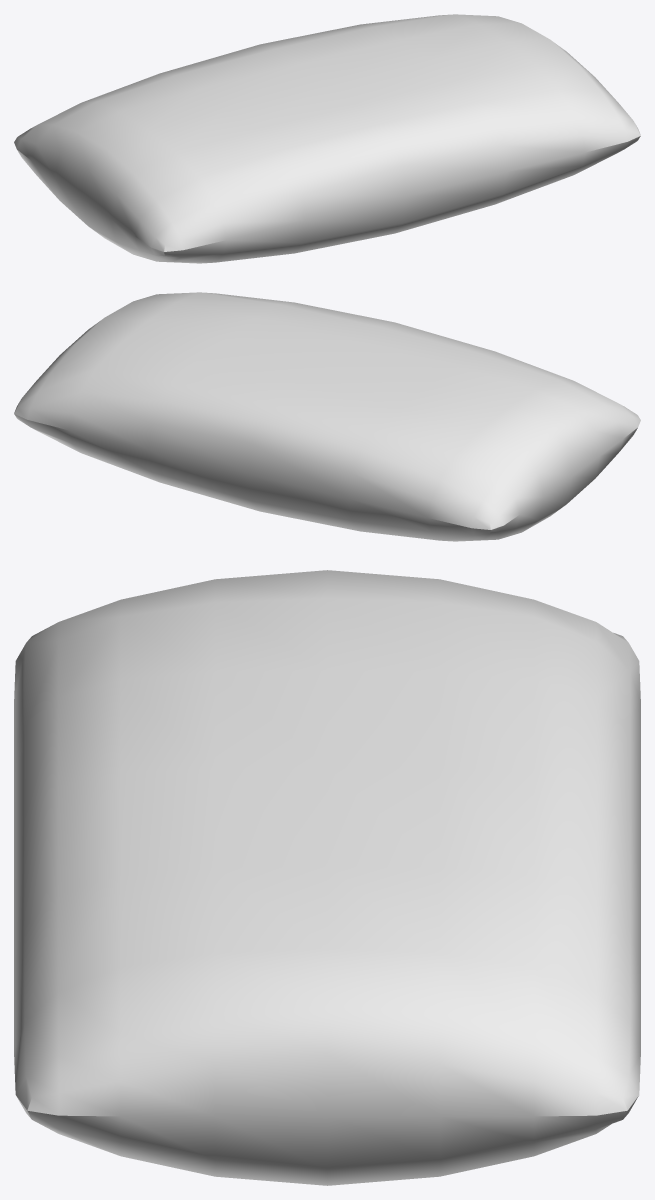
The model's file is Pillow_01.fbx.
The picture shows the model from 3 angles, top to bottom: view 1: azimuth 30°, elevation 25°; view 2: azimuth 150°, elevation 25°; view 3: azimuth 270°, elevation 25°; orthographic projection. The views are drawn at different scales.
Parts seen in each view (by area): view 1: Pillow_01; view 2: Pillow_01; view 3: Pillow_01.
Boxes of the visible parts, x1,y1,x2,y2 form: Pillow_01: (14, 14, 640, 263); Pillow_01: (14, 292, 640, 541); Pillow_01: (14, 570, 640, 1185).
Bounding box in the file's own units: 48.08 × 10.34 × 26.72.
